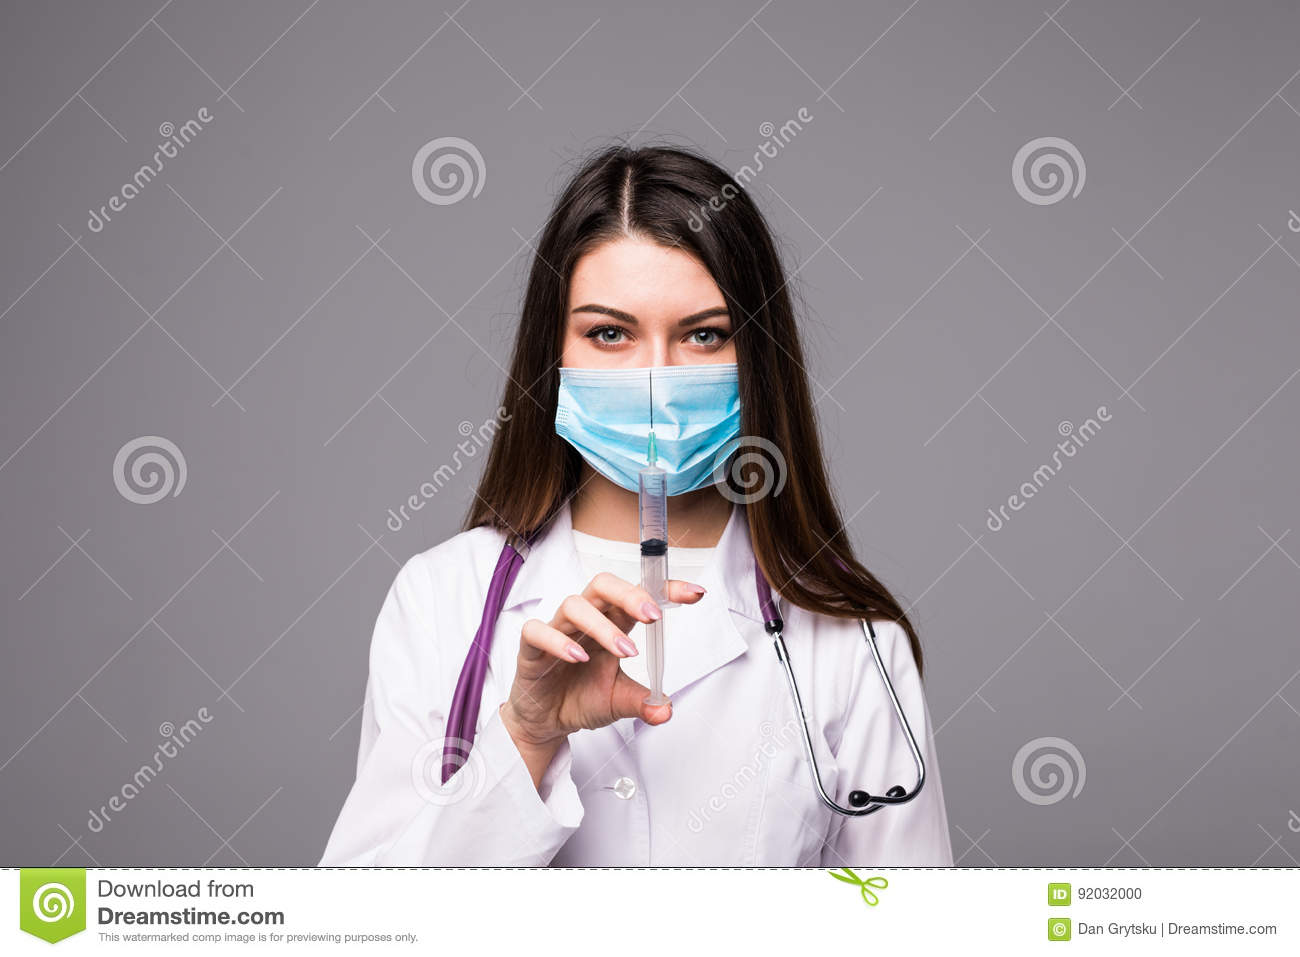mask: (558, 351, 747, 501)
